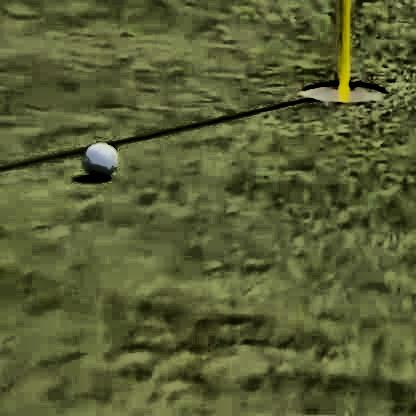golfball: (81, 138, 117, 175)
